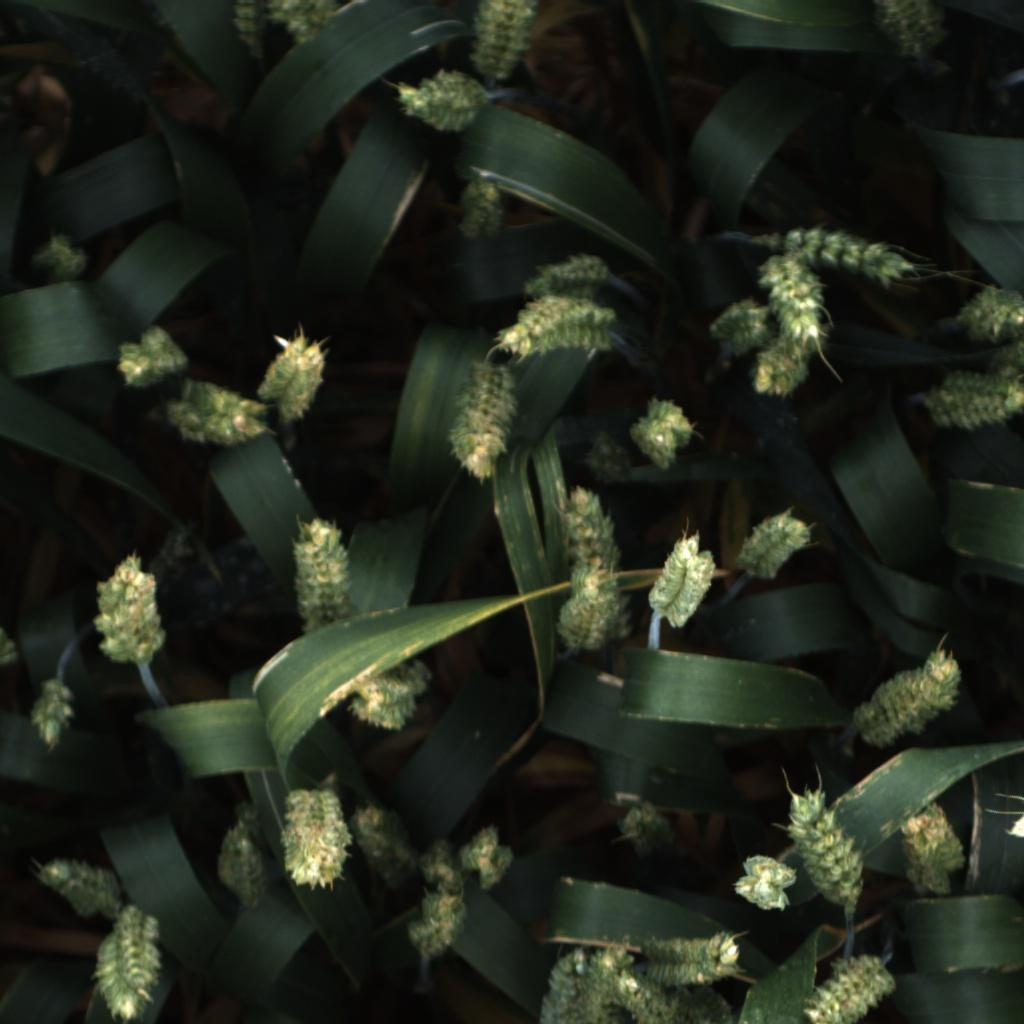0-0: (748, 226, 913, 298), (780, 781, 871, 908), (850, 648, 962, 748), (278, 514, 366, 632), (84, 899, 167, 1024), (445, 356, 522, 487), (487, 296, 625, 369), (91, 550, 173, 671), (275, 781, 359, 894), (152, 376, 272, 452), (642, 531, 726, 631), (892, 796, 971, 899), (254, 330, 333, 431), (754, 248, 828, 351), (389, 66, 492, 136), (923, 364, 1024, 433), (731, 508, 820, 584), (635, 926, 744, 988), (524, 939, 603, 1024), (464, 0, 540, 86), (793, 959, 893, 1024), (347, 797, 422, 883), (401, 891, 474, 979), (866, 0, 953, 70), (35, 855, 127, 921), (558, 484, 620, 580), (723, 846, 803, 918), (520, 250, 614, 310), (110, 322, 188, 393), (629, 396, 696, 472), (213, 827, 270, 915), (605, 961, 684, 1024), (22, 670, 81, 753), (452, 171, 514, 249), (458, 818, 519, 892), (748, 338, 815, 405), (24, 228, 97, 289), (409, 830, 468, 904), (955, 276, 1023, 340), (554, 585, 613, 657), (342, 675, 415, 733), (262, 0, 343, 51), (699, 295, 767, 355), (612, 799, 673, 858), (588, 942, 637, 1012), (580, 428, 635, 481), (670, 983, 740, 1024), (377, 651, 433, 697), (154, 524, 196, 584), (228, 1, 267, 57), (607, 591, 635, 646), (988, 338, 1024, 380), (567, 563, 609, 596), (233, 800, 265, 838), (0, 627, 21, 669)
